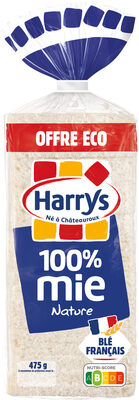100% mie nature: (7, 20, 132, 380)
